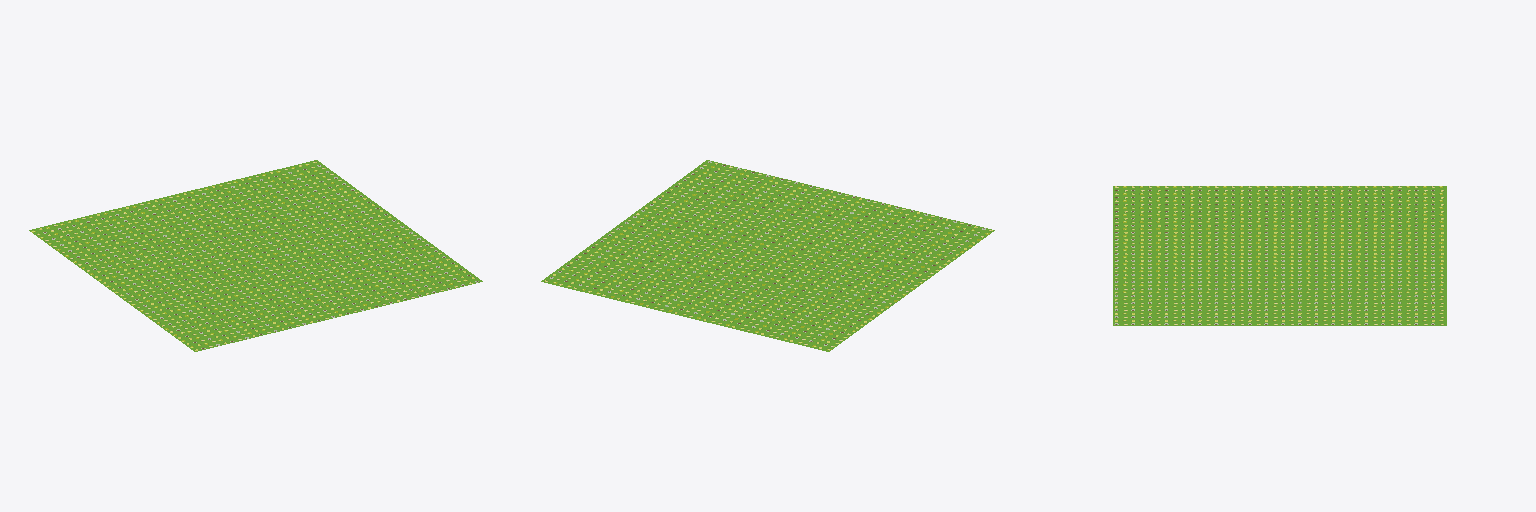
The picture shows the model from 3 angles: view 1: azimuth 30°, elevation 25°; view 2: azimuth 150°, elevation 25°; view 3: azimuth 270°, elevation 25°; orthographic projection.
Parts seen in each view (by area): view 1: default; view 2: default; view 3: default.
Boxes of the visible parts, box(x1,y1,x2,y2) form: default: box(29, 160, 482, 351); default: box(541, 160, 994, 351); default: box(1113, 186, 1446, 325).
Size of the model in its own units: 2000 by 0 by 2000.
1 materials, 1 textured.